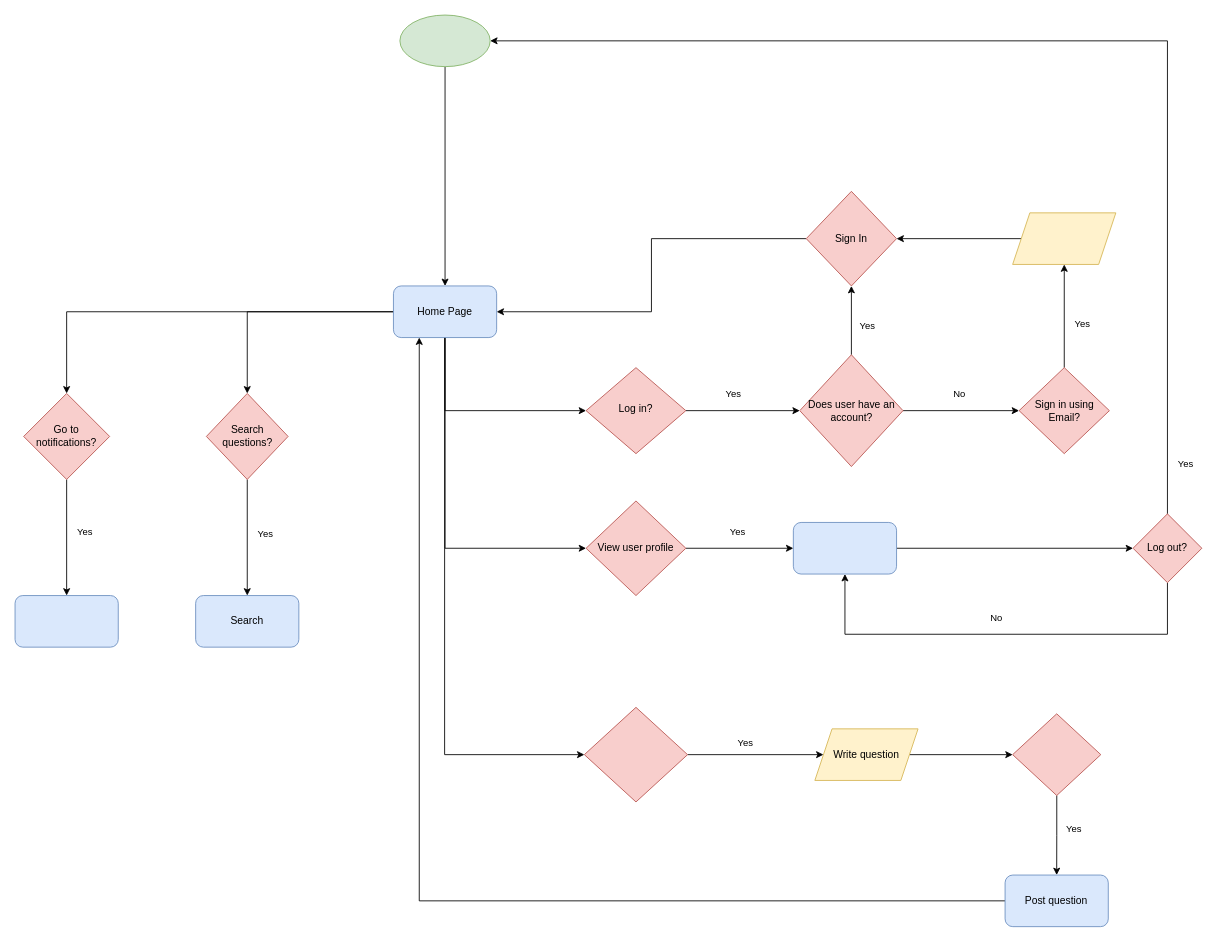
Image size: 1217x942. Some labels were removed from this diagram. Each missing label, with the box of its shape:
Ask a question?: (584, 706, 688, 802)
Enter user info: (1012, 212, 1116, 264)
Notifications: (14, 595, 118, 647)
Post question?: (1012, 713, 1101, 796)
Start: (399, 14, 490, 67)
User profile: (792, 522, 897, 574)
